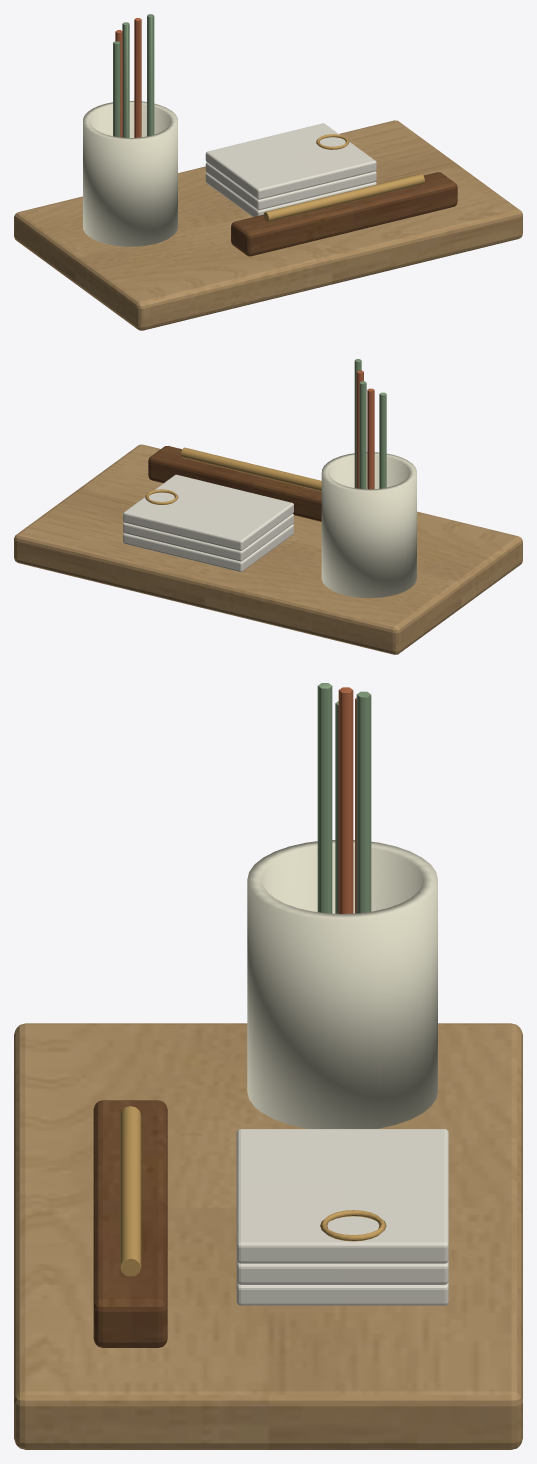
File: crime-desk-accessories.glb
The picture shows the model from 3 angles, top to bottom: view 1: azimuth 30°, elevation 25°; view 2: azimuth 150°, elevation 25°; view 3: azimuth 270°, elevation 25°; orthographic projection. The views are drawn at different scales.
Parts seen in each view (by area): view 1: Desktop organizer base, Pencil cup, Blank note pad.002, Pen resting tray, Blank note pad.001, Original desk pen, Blank note pad, Original pencil.004, Original pencil.003, Original pencil.002, Original pencil, Original pencil.001; view 2: Desktop organizer base, Pencil cup, Blank note pad.002, Pen resting tray, Blank note pad.001, Blank note pad, Original desk pen, Original pencil.002, Original pencil.001, Original pencil, Original pencil.003, Original pencil.004; view 3: Desktop organizer base, Pencil cup, Blank note pad.002, Pen resting tray, Blank note pad.001, Blank note pad, Original pencil.004, Original desk pen, Original pencil.003, Original pencil.002, Original paperclip form.
Part boxes in pixels (<box>): Desktop organizer base: <box>14,120,522,330</box>; Pencil cup: <box>83,100,177,246</box>; Blank note pad.002: <box>205,123,376,199</box>; Pen resting tray: <box>231,172,457,256</box>; Blank note pad.001: <box>205,162,376,210</box>; Original desk pen: <box>263,174,424,221</box>; Blank note pad: <box>205,173,376,216</box>; Original pencil.004: <box>147,14,154,136</box>; Original pencil.003: <box>134,18,141,137</box>; Original pencil.002: <box>122,22,129,137</box>; Original pencil: <box>113,41,120,137</box>; Original pencil.001: <box>115,30,122,137</box>; Desktop organizer base: <box>14,444,522,654</box>; Pencil cup: <box>321,452,416,597</box>; Blank note pad.002: <box>123,474,293,550</box>; Pen resting tray: <box>148,446,321,521</box>; Blank note pad.001: <box>123,514,293,561</box>; Blank note pad: <box>123,524,293,571</box>; Original desk pen: <box>181,447,321,491</box>; Original pencil.002: <box>359,381,366,489</box>; Original pencil.001: <box>367,388,374,489</box>; Original pencil: <box>379,392,386,488</box>; Original pencil.003: <box>356,370,363,488</box>; Original pencil.004: <box>354,359,361,488</box>; Desktop organizer base: <box>14,1023,522,1449</box>; Pencil cup: <box>247,840,437,1128</box>; Blank note pad.002: <box>236,1129,448,1263</box>; Pen resting tray: <box>93,1100,167,1347</box>; Blank note pad.001: <box>236,1260,448,1284</box>; Blank note pad: <box>236,1281,448,1305</box>; Original pencil.004: <box>317,683,332,913</box>; Original desk pen: <box>120,1106,141,1276</box>; Original pencil.003: <box>338,687,353,913</box>; Original pencil.002: <box>356,691,371,913</box>; Original paperclip form: <box>320,1210,386,1241</box>.
Size of the model in its own units: 0.42 by 0.249 by 0.24.
Materials: 7 (7 with a texture image).
